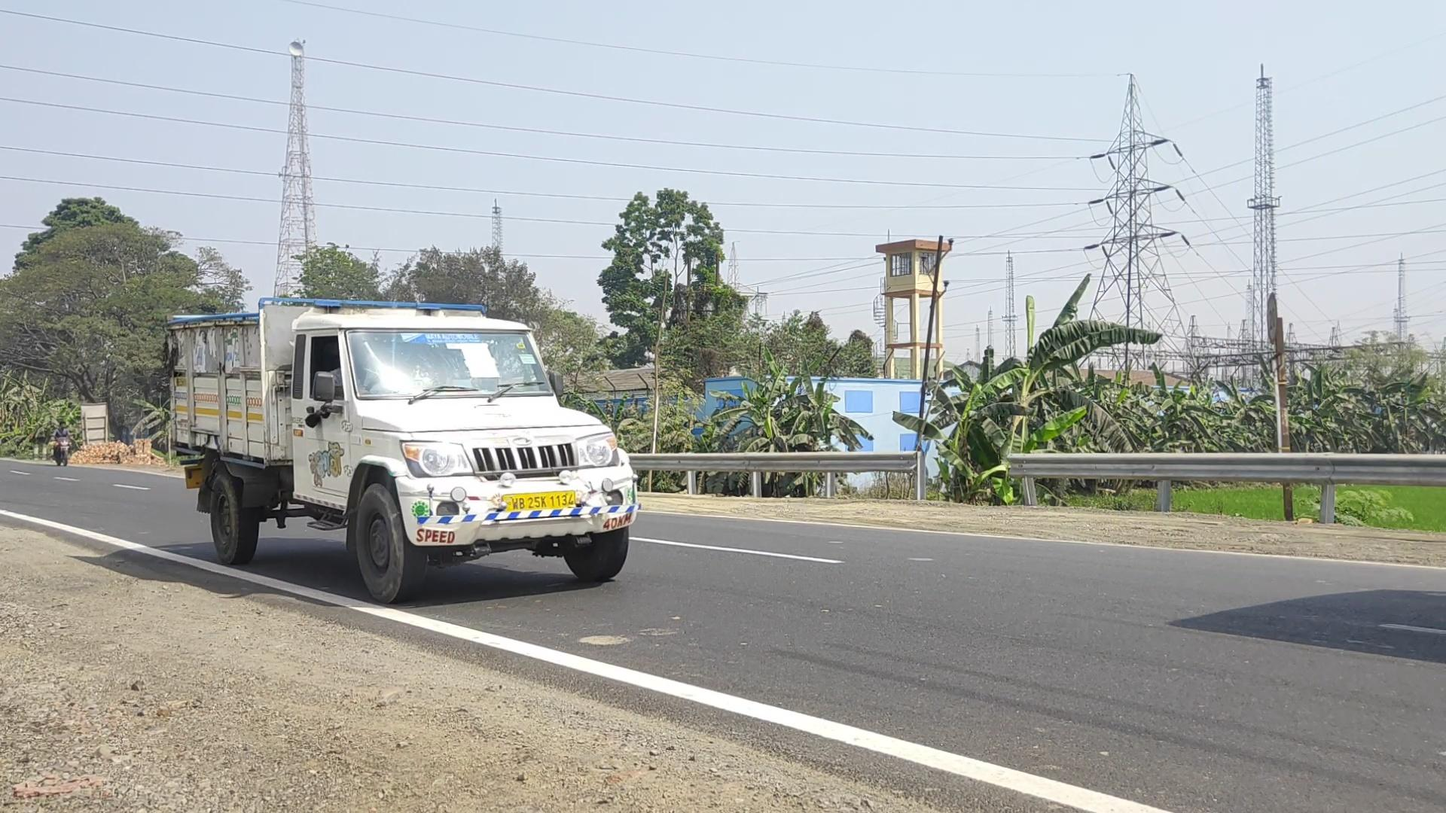bike: (50, 421, 75, 467)
car: (163, 296, 640, 606)
